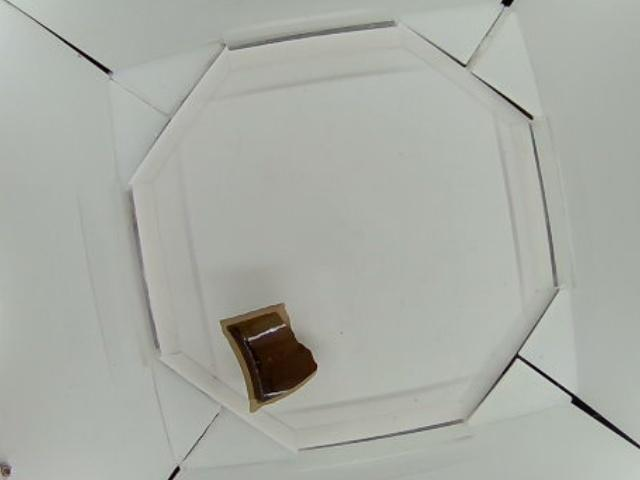China: (217, 300, 318, 408)
